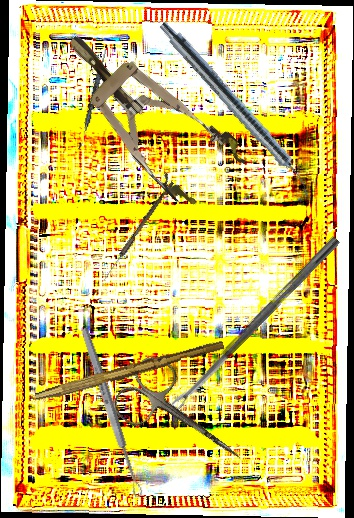Handpiece: (153, 18, 320, 200)
Iris Scissors: (107, 349, 261, 489)
Scalpel Handle: (34, 335, 225, 408)
Spatula Surgical: (78, 47, 108, 151)
Speculum: (43, 7, 252, 217)
Surgical Spoon: (170, 234, 341, 411), (78, 325, 145, 500), (101, 179, 175, 283)
